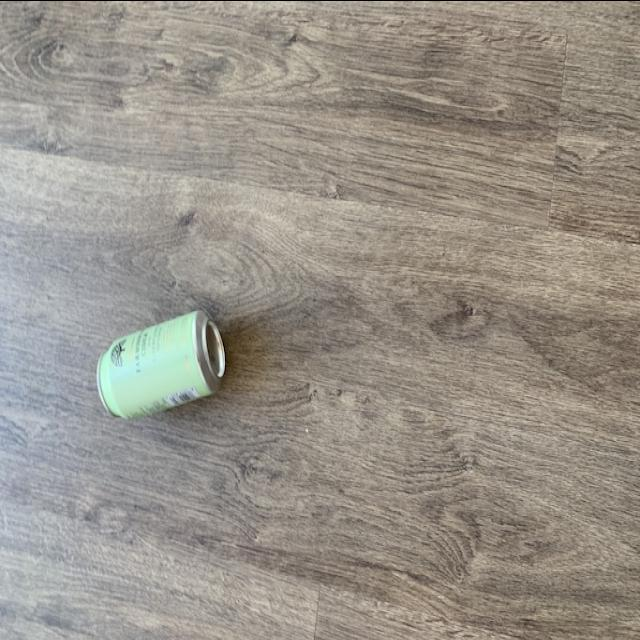litter: (94, 306, 234, 422)
